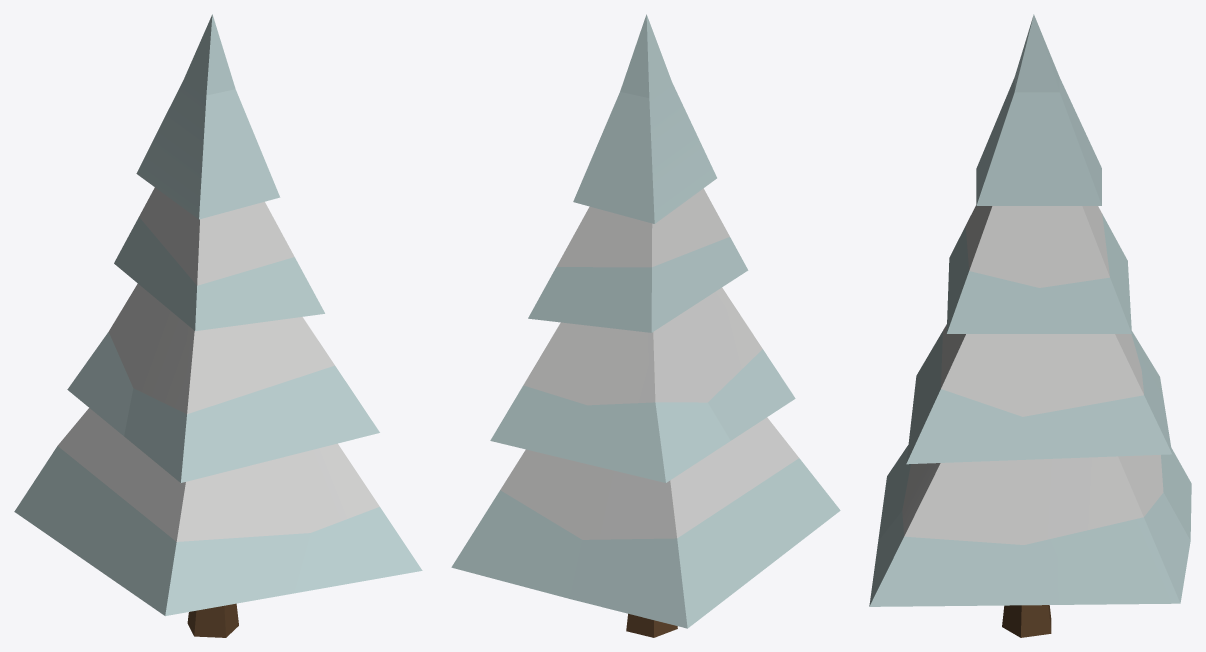
The model's file is nature_tree-conifer-snow.fbx.
3 renders of one model, left to right at view 1: azimuth 30°, elevation 25°; view 2: azimuth 150°, elevation 25°; view 3: azimuth 270°, elevation 25°, orthographic.
Parts seen in each view (by area): view 1: nature_tree_conifer_snow; view 2: nature_tree_conifer_snow; view 3: nature_tree_conifer_snow.
Boxes of the visible parts, x1,y1,x2,y2 form: nature_tree_conifer_snow: [14, 14, 422, 637]; nature_tree_conifer_snow: [451, 14, 840, 637]; nature_tree_conifer_snow: [869, 14, 1191, 637].
Bounding box in the file's own units: 85.08 × 200 × 95.16.
